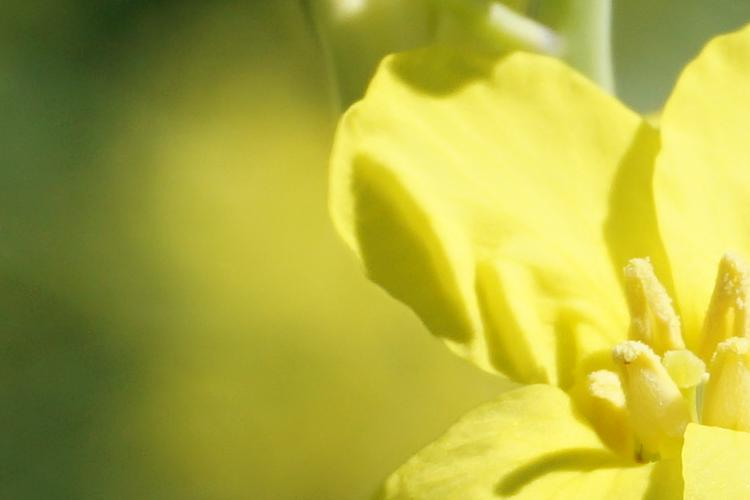yellow: (311, 55, 746, 500)
